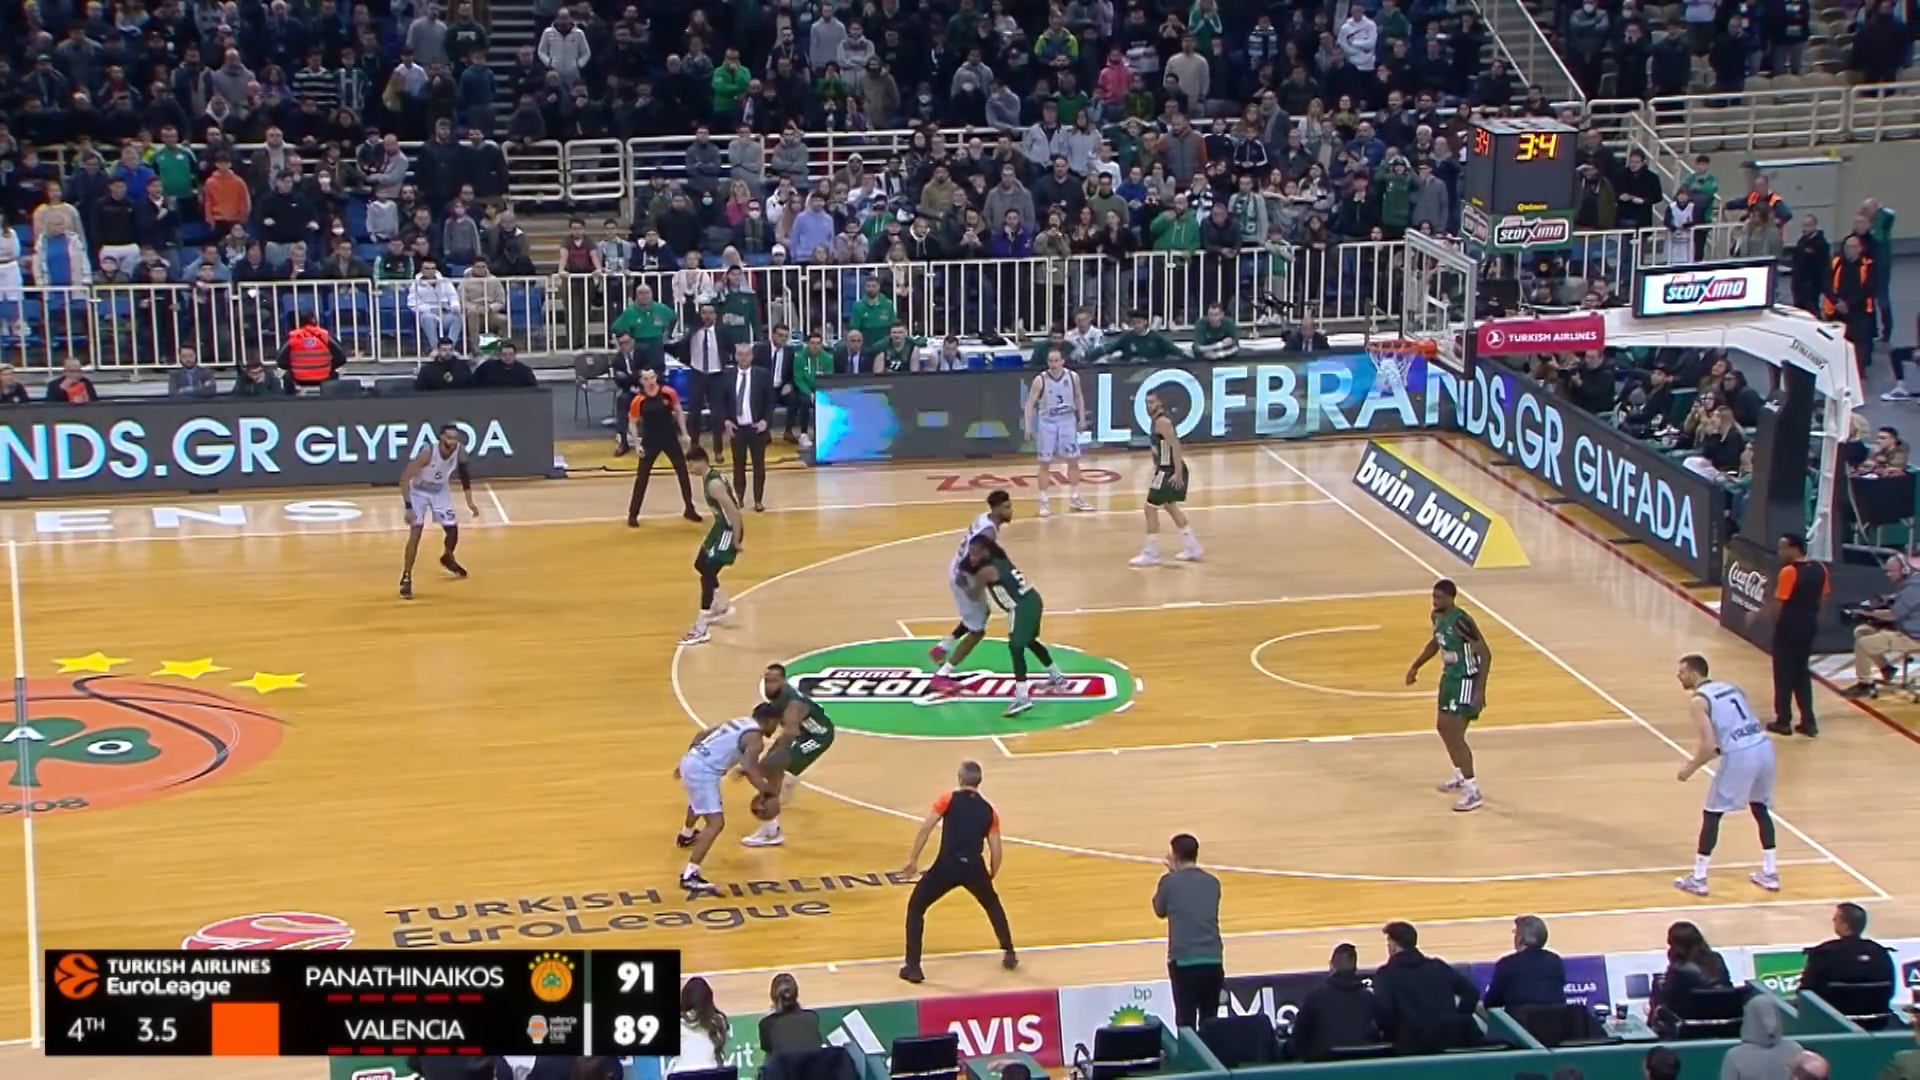ball: (746, 789, 786, 823)
net: (1364, 336, 1423, 392)
